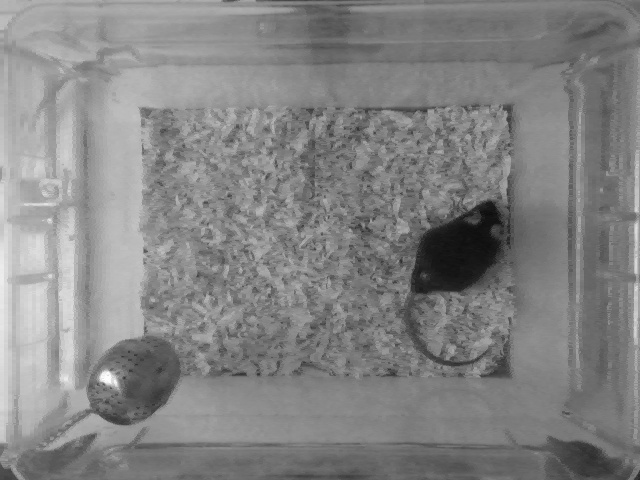mice: (403, 202, 502, 362)
